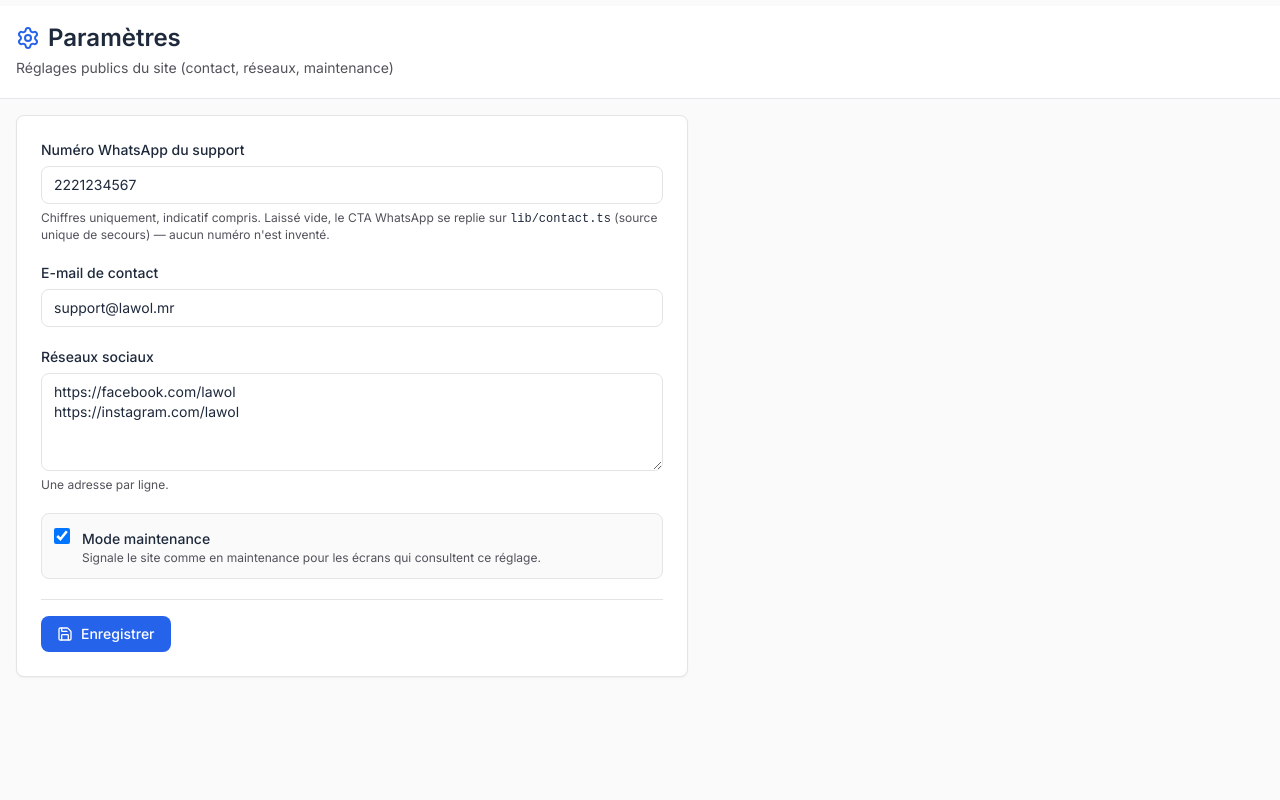
Test: page Paramètres — enregistrement › session admin refusée (403) → message de reconnexion
Expected: the field labelled "E-mail de contact" holds "support@lawol.mr", [41,289,663,327]
Click the button "Enregistrer". click: point(106, 634)
box: [41,616,170,652]
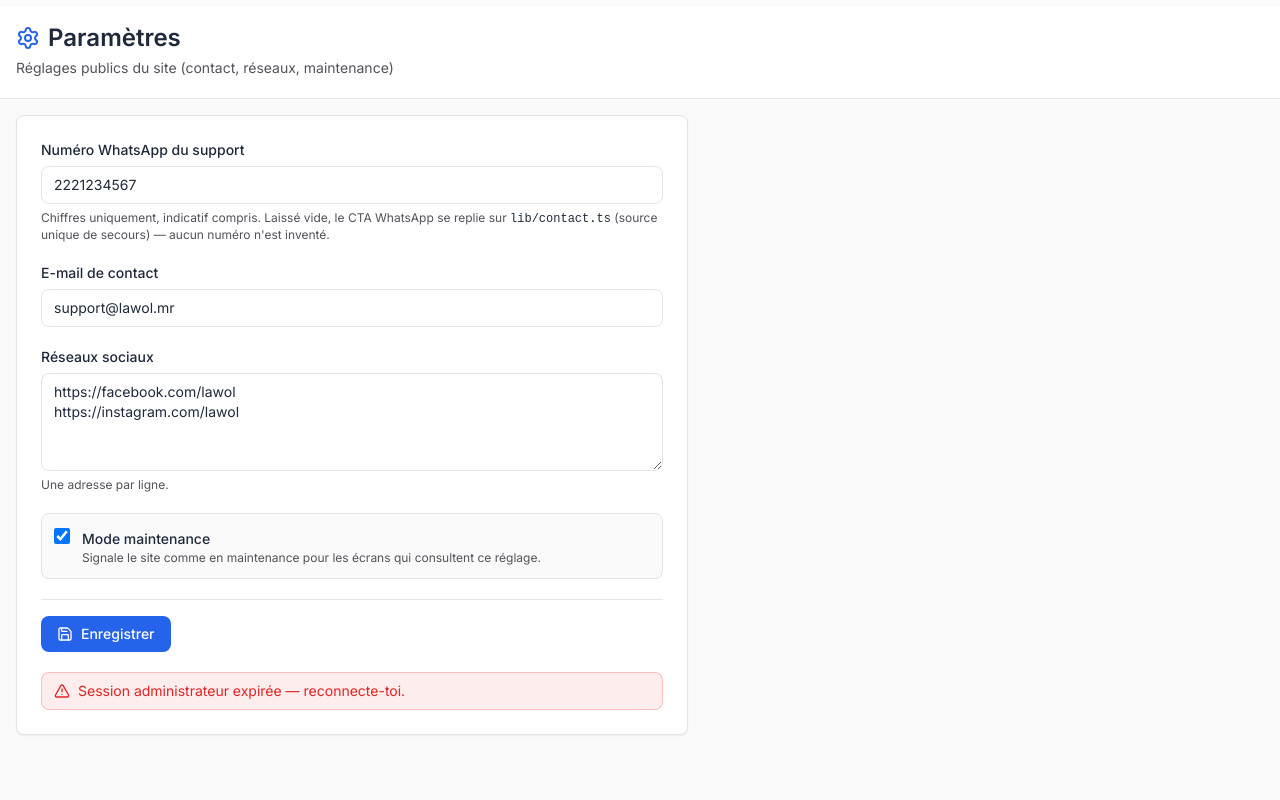
Expected: the message shows "Session administrateur expirée", [78,682,405,699]
